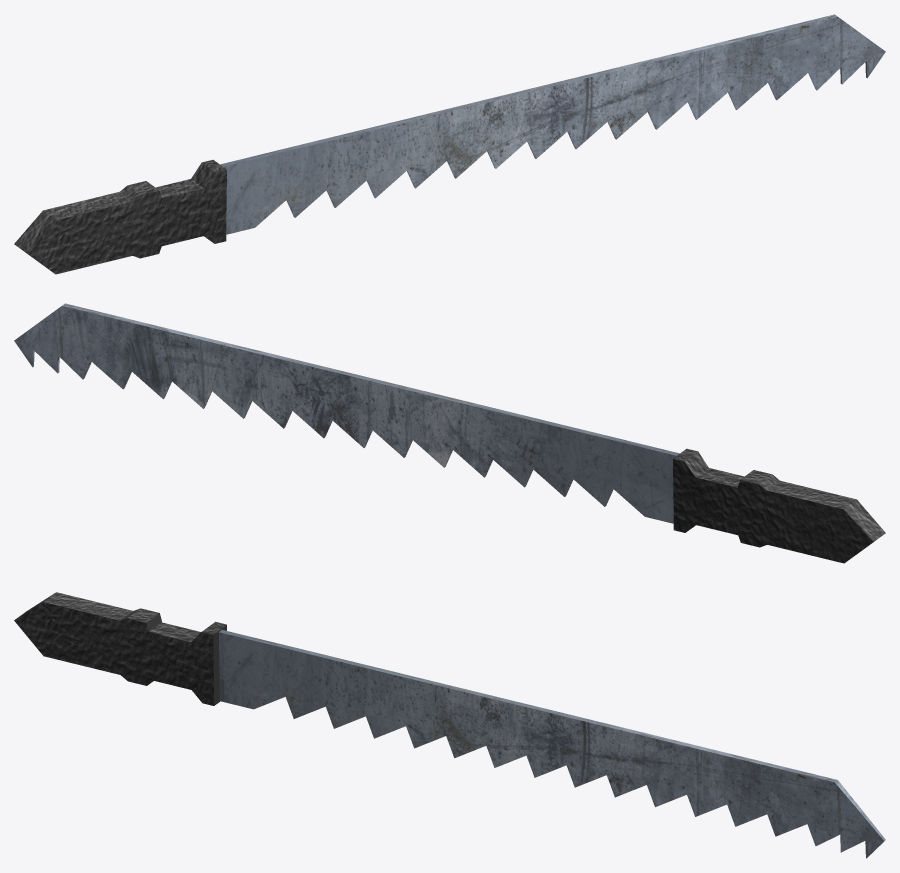
Rendered from saw.obj.
The picture shows the model from 3 angles, top to bottom: view 1: azimuth 30°, elevation 25°; view 2: azimuth 150°, elevation 25°; view 3: azimuth 330°, elevation 25°; orthographic projection.
Parts seen in each view (by area): view 1: Saw_Cube.001; view 2: Saw_Cube.001; view 3: Saw_Cube.001.
Boxes of the visible parts, box(x1,y1,x2,y2) form: Saw_Cube.001: box(14, 14, 885, 274); Saw_Cube.001: box(14, 303, 885, 563); Saw_Cube.001: box(14, 592, 885, 858).
Size of the model in its own units: 8.2 by 0.6528 by 0.226.
